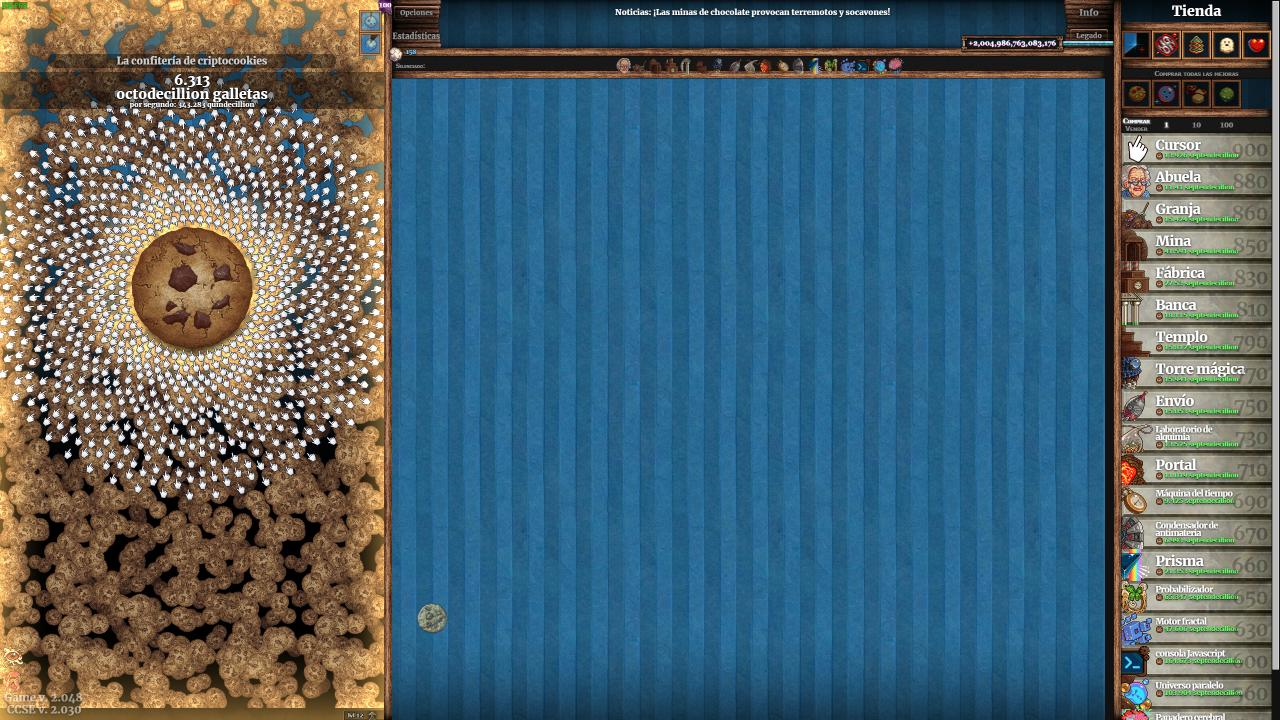GoldenCookie: (416, 601, 449, 635)
